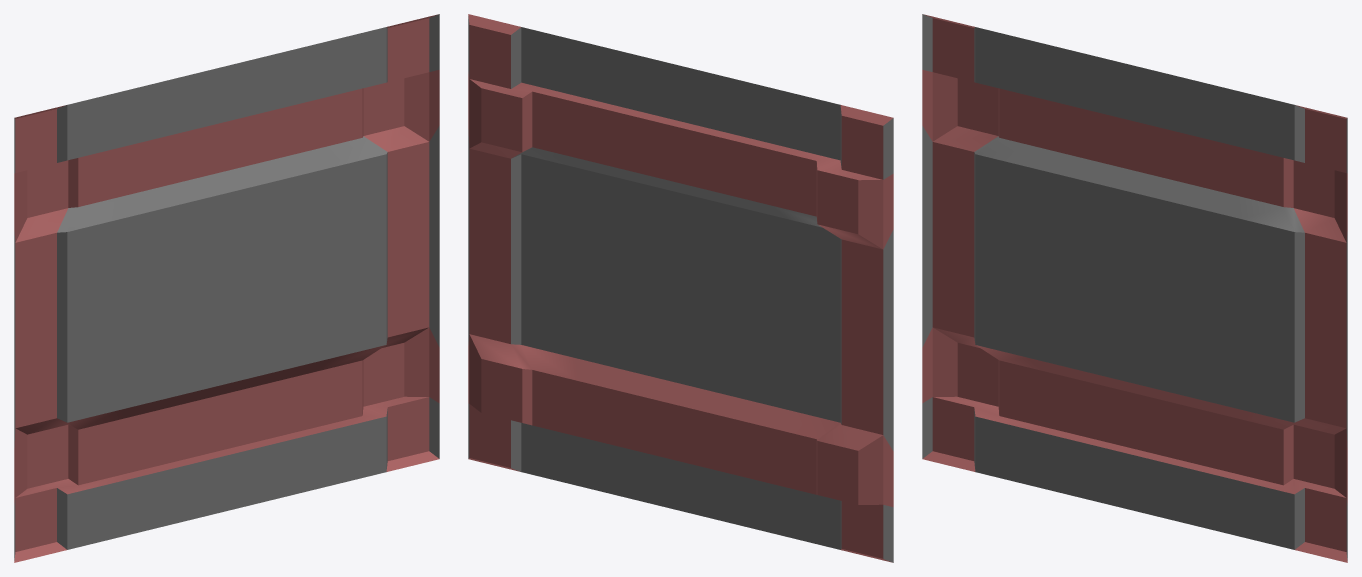
Rendered from SM_Module_4.fbx.
The picture shows the model from 3 angles, left to right: view 1: azimuth 30°, elevation 25°; view 2: azimuth 150°, elevation 25°; view 3: azimuth 330°, elevation 25°; orthographic projection.
Parts seen in each view (by area): view 1: SM_Module_4; view 2: SM_Module_4; view 3: SM_Module_4.
Boxes of the visible parts, x1,y1,x2,y2 form: SM_Module_4: (14,14,439,562); SM_Module_4: (468,14,893,562); SM_Module_4: (922,14,1347,562).
Bounding box in the file's own units: 300 × 300 × 13.55.
